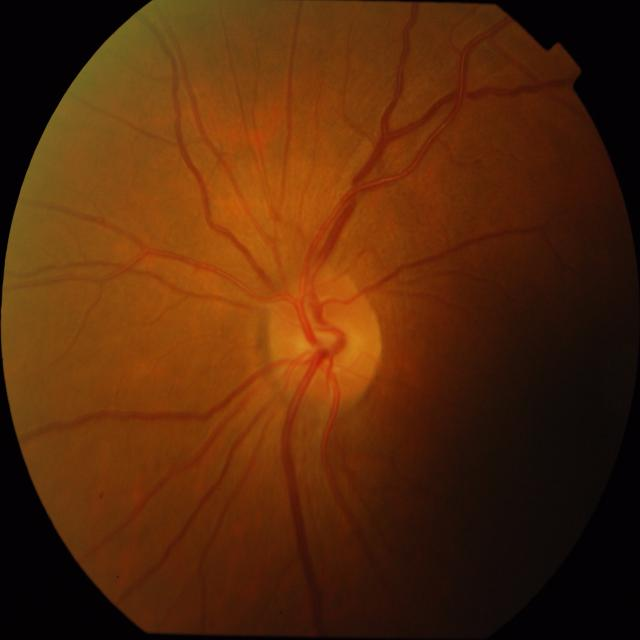OC: (298, 315, 355, 382)
OD: (264, 266, 382, 409)
